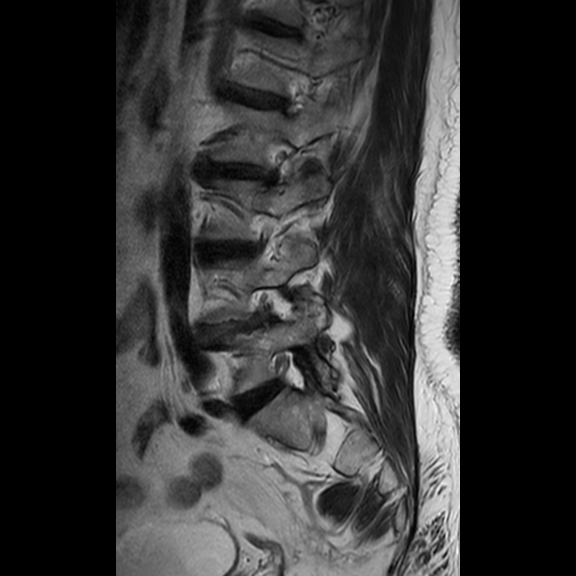RFS0: (257, 338, 321, 407)
